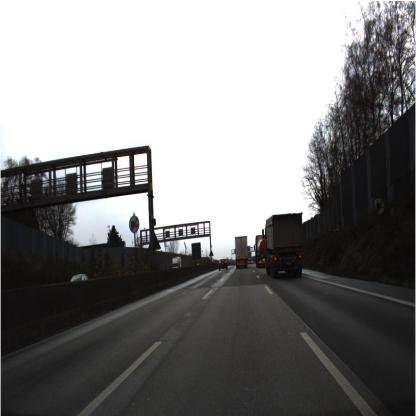other: (126, 211, 141, 236)
